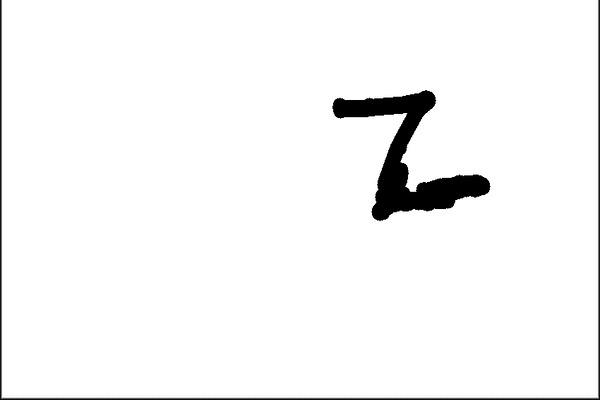Z: (322, 74, 491, 224)
